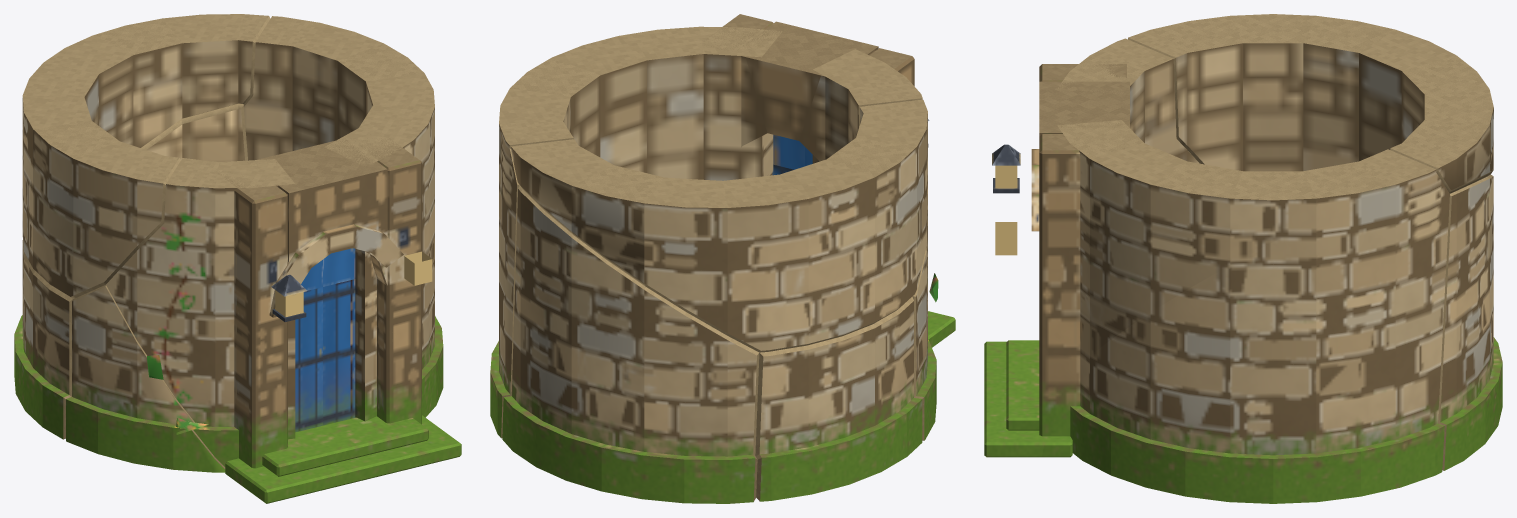
File: Kit_Tower_RingDoor_Fractured.fbx
3 views of the same model, side by side, from view 1: azimuth 30°, elevation 25°; view 2: azimuth 150°, elevation 25°; view 3: azimuth 270°, elevation 25° (orthographic). The views are drawn at different scales.
Parts seen in each view (by area): view 1: Kit_Tower_RingDoor_frag_04, Kit_Tower_RingDoor_frag_03, Kit_Tower_RingDoor_frag_02, Kit_Tower_RingDoor_frag_07, Kit_Tower_RingDoor_frag_01, Kit_Tower_RingDoor_frag_05, Kit_Tower_RingDoor_frag_06; view 2: Kit_Tower_RingDoor_frag_02, Kit_Tower_RingDoor_frag_06, Kit_Tower_RingDoor_frag_03, Kit_Tower_RingDoor_frag_01, Kit_Tower_RingDoor_frag_05, Kit_Tower_RingDoor_frag_07, Kit_Tower_RingDoor_frag_04; view 3: Kit_Tower_RingDoor_frag_05, Kit_Tower_RingDoor_frag_03, Kit_Tower_RingDoor_frag_02, Kit_Tower_RingDoor_frag_06, Kit_Tower_RingDoor_frag_04.
Boxes of the visible parts, left/top/right/bottom form: Kit_Tower_RingDoor_frag_04: left=106, top=224, right=461, bottom=503; Kit_Tower_RingDoor_frag_03: left=164, top=16, right=434, bottom=346; Kit_Tower_RingDoor_frag_02: left=22, top=14, right=270, bottom=298; Kit_Tower_RingDoor_frag_07: left=66, top=285, right=225, bottom=472; Kit_Tower_RingDoor_frag_01: left=14, top=240, right=72, bottom=439; Kit_Tower_RingDoor_frag_05: left=244, top=93, right=443, bottom=421; Kit_Tower_RingDoor_frag_06: left=141, top=103, right=247, bottom=161; Kit_Tower_RingDoor_frag_02: left=510, top=99, right=927, bottom=352; Kit_Tower_RingDoor_frag_06: left=502, top=186, right=759, bottom=503; Kit_Tower_RingDoor_frag_03: left=499, top=14, right=922, bottom=180; Kit_Tower_RingDoor_frag_01: left=755, top=297, right=922, bottom=501; Kit_Tower_RingDoor_frag_05: left=490, top=125, right=519, bottom=438; Kit_Tower_RingDoor_frag_07: left=912, top=248, right=936, bottom=440; Kit_Tower_RingDoor_frag_04: left=773, top=119, right=955, bottom=347; Kit_Tower_RingDoor_frag_05: left=1042, top=172, right=1449, bottom=503; Kit_Tower_RingDoor_frag_03: left=995, top=38, right=1436, bottom=362; Kit_Tower_RingDoor_frag_02: left=1128, top=14, right=1493, bottom=193; Kit_Tower_RingDoor_frag_06: left=1438, top=174, right=1502, bottom=470; Kit_Tower_RingDoor_frag_04: left=984, top=139, right=1199, bottom=457.
Size of what is drawn, in the model's own units: 4.16 by 3 by 4.7.
Materials: 2 (2 with a texture image).
